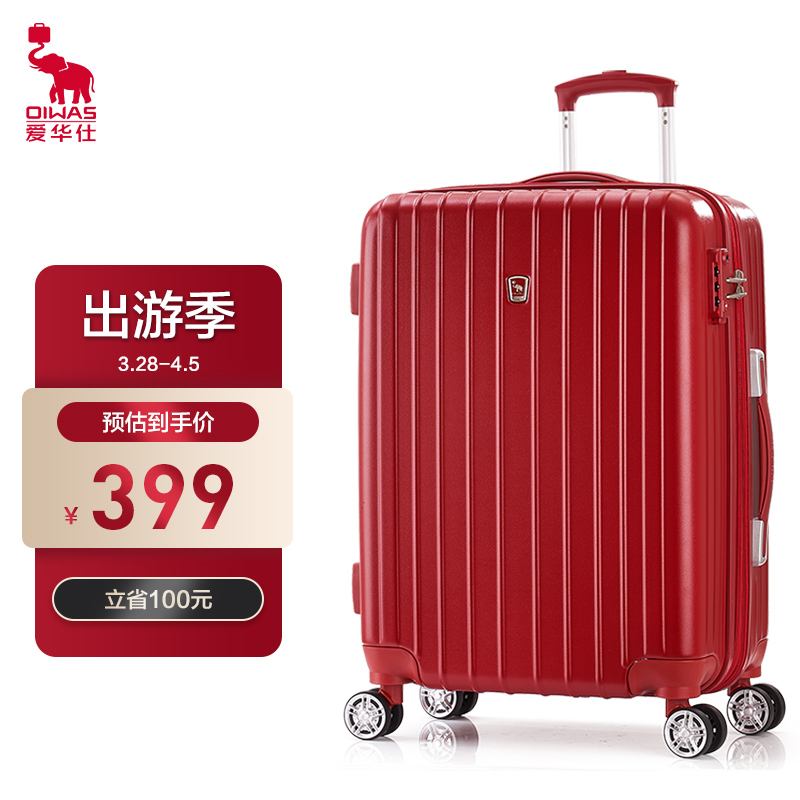box: (359, 184, 765, 700)
handle: (749, 345, 774, 566), (510, 171, 637, 185)
lock: (707, 247, 746, 325)
wheel: (663, 703, 728, 759), (343, 687, 404, 741), (726, 683, 786, 736), (419, 683, 479, 721)
